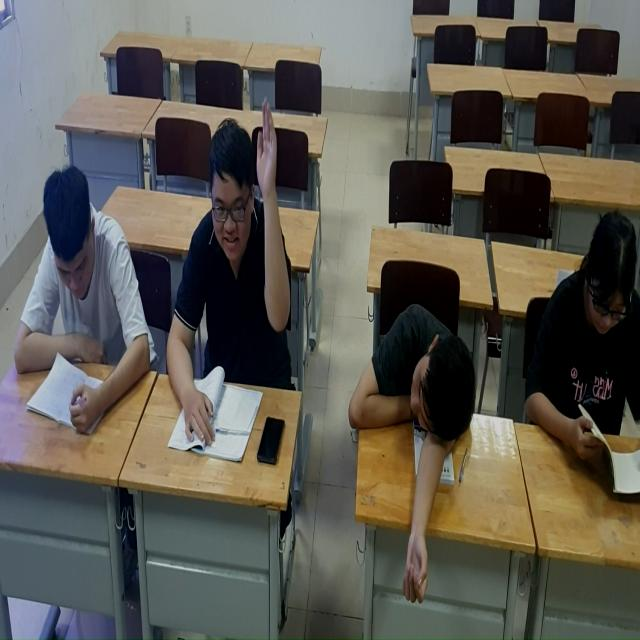raise_hand: (167, 94, 297, 454)
read: (7, 156, 144, 440), (514, 204, 640, 502)
sleep: (347, 279, 483, 606)
